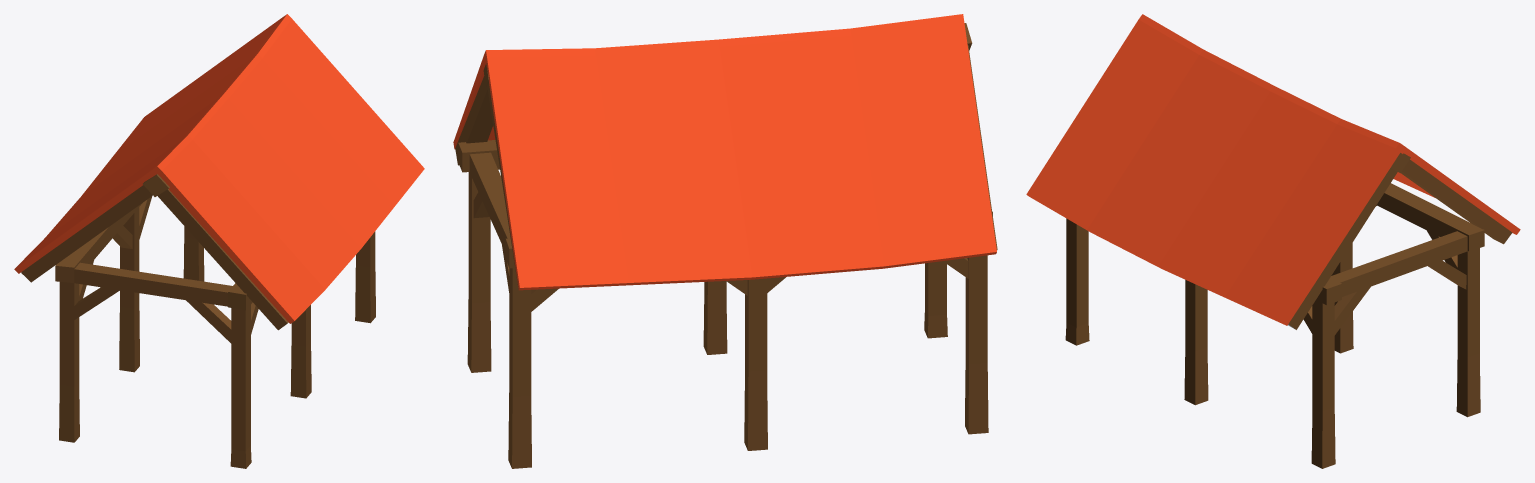
File: SchuurTest.fbx
The picture shows the model from 3 angles, left to right: view 1: azimuth 30°, elevation 25°; view 2: azimuth 150°, elevation 25°; view 3: azimuth 270°, elevation 25°; orthographic projection. The views are drawn at different scales.
Visible parts, largest first — view 1: Schuur; view 2: Schuur; view 3: Schuur.
Boxes of the visible parts, x1=… form: Schuur: x1=14, y1=14, x2=424, y2=468; Schuur: x1=453, y1=14, x2=997, y2=468; Schuur: x1=1026, y1=14, x2=1520, y2=468.
Size of the model in its own units: 6.46 by 6.59 by 4.32.
